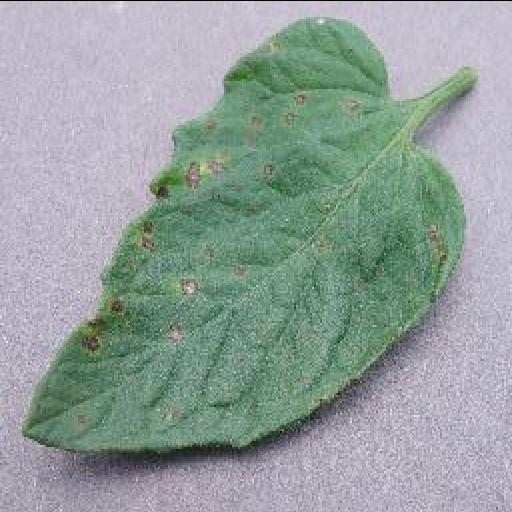disease_tomato: (20, 14, 466, 452)
